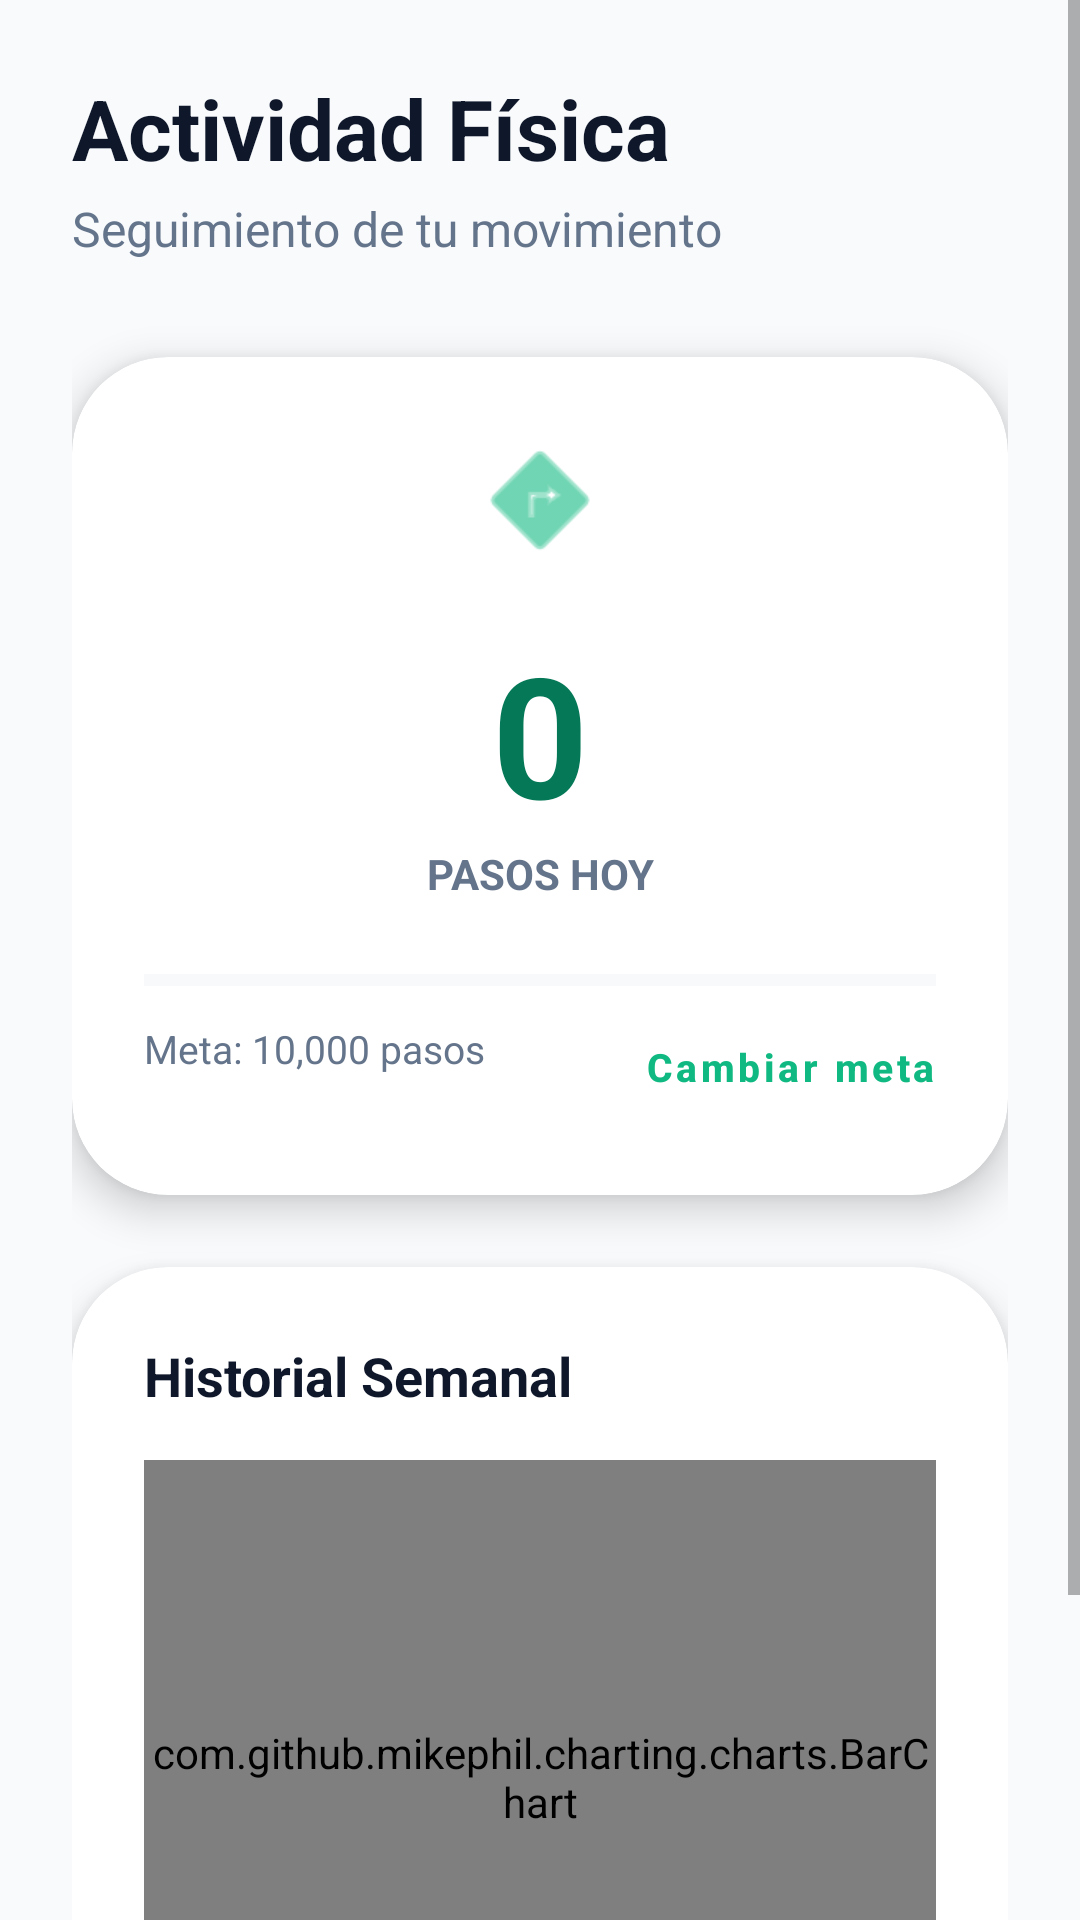

Where to tap for icons on this 1080 x 1920 app screen, as (x=x, y=y):
directions: (x=540, y=500)
